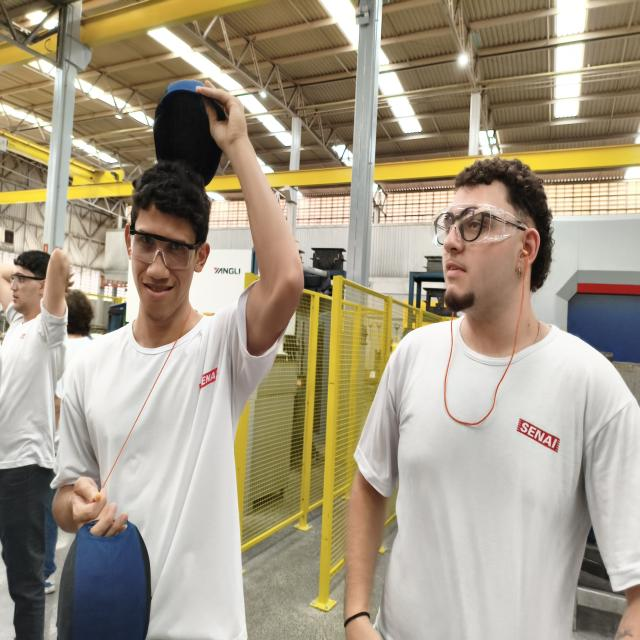oculos-epi: (431, 203, 527, 249), (129, 227, 198, 270), (9, 274, 45, 288)
